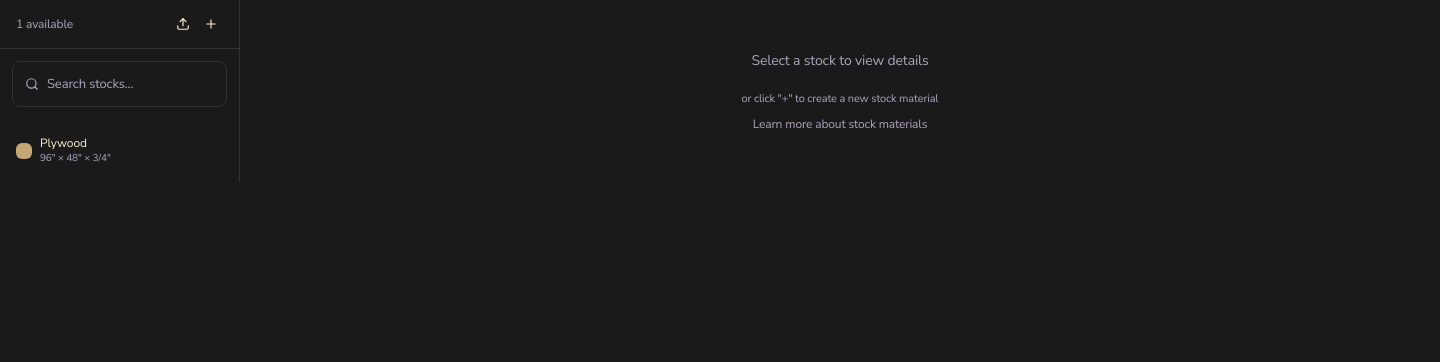
Test: StocksTab › grain direction display › shows "None" for no-grain stocks
Step 1. Click the text "Plywood" → (63, 143), box [40,135,87,151]
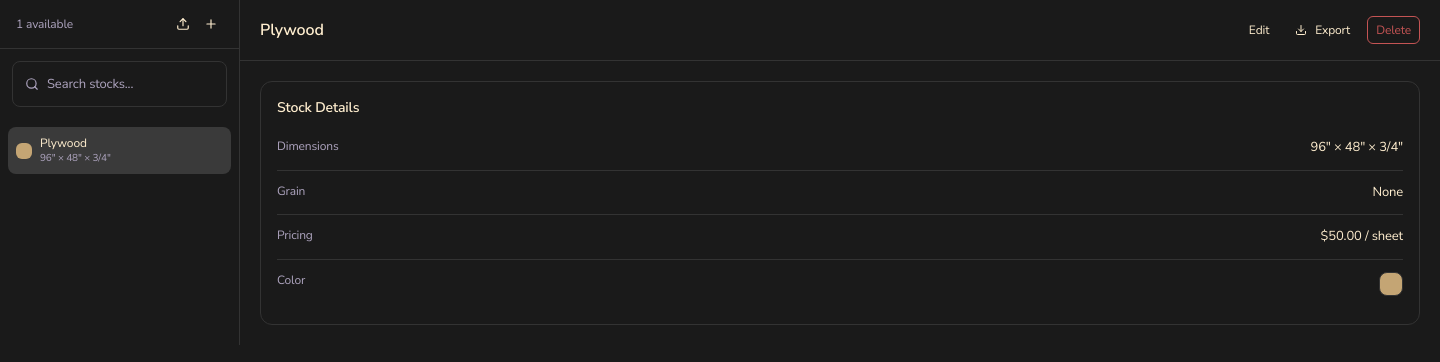
Result: the text "None" is shown at [1372,182,1403,202]
